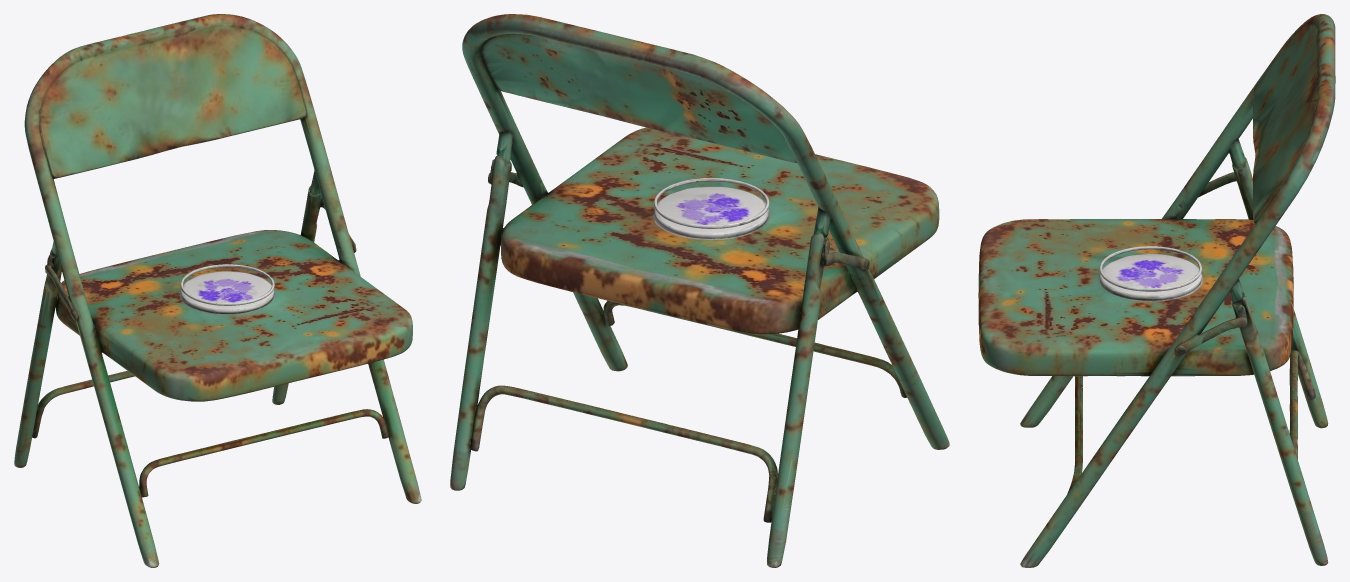
File: streptococcus_a.glb
3 views of the same model, side by side, from view 1: azimuth 30°, elevation 25°; view 2: azimuth 150°, elevation 25°; view 3: azimuth 270°, elevation 25° (orthographic). The views are drawn at different scales.
Size of the model in its own units: 1.47 by 2 by 1.47.
Materials: 1 (1 with a texture image).
